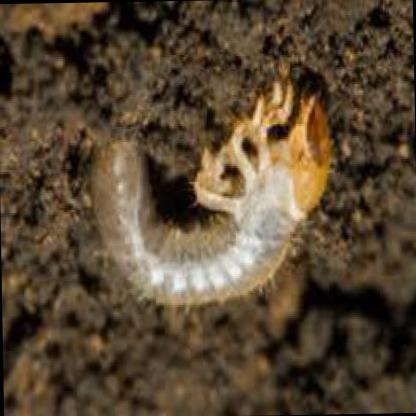root grubs: (93, 78, 330, 307)
